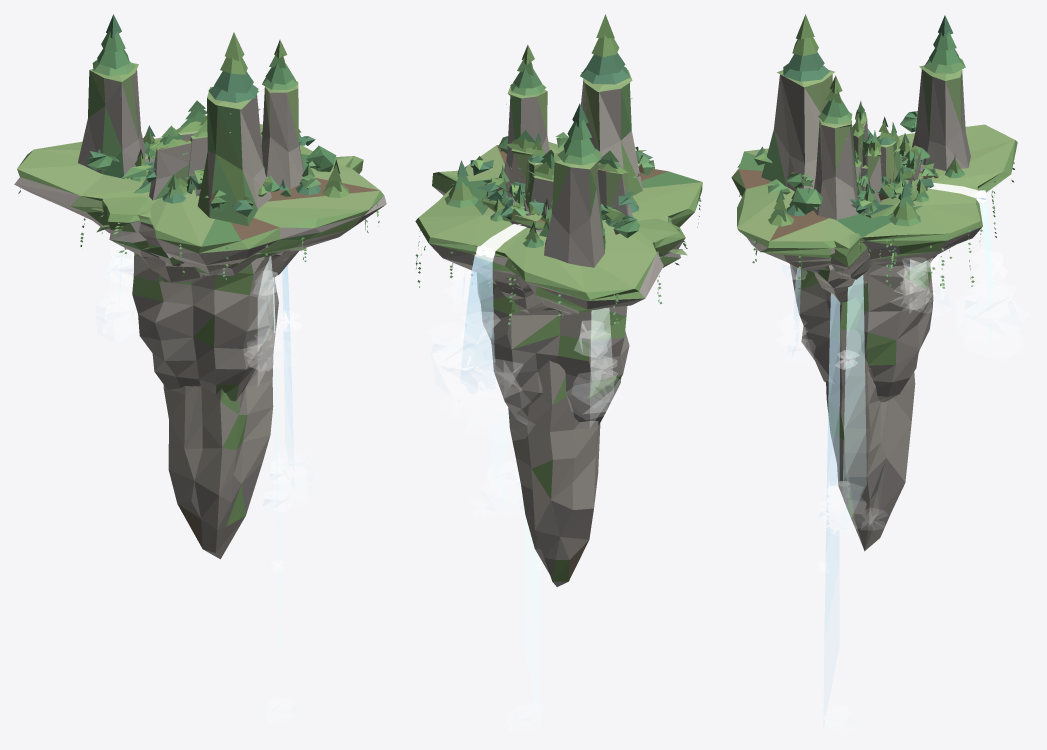
File: kit_meadow_lo.glb
3 views of the same model, side by side, from view 1: azimuth 30°, elevation 25°; view 2: azimuth 150°, elevation 25°; view 3: azimuth 270°, elevation 25° (orthographic). The views are drawn at different scales.
Visible parts, largest first — view 1: Island_Plateau_Wide, Island_Mesa_Tall, Island_Tower, Island_Twin_Falls, Island_Ridge_Long, Island_Lair_Arena, Island_Forest_Dense, Island_Keel; view 2: Island_Plateau_Wide, Island_Tower, Island_Mesa_Tall, Island_Ridge_Long, Island_Twin_Falls, Island_Forest_Dense, Island_Bowl, Island_Tilted_A; view 3: Island_Plateau_Wide, Island_Mesa_Tall, Island_Tower, Island_Twin_Falls, Island_Ridge_Long, Island_Bowl, Island_Forest_Dense, Island_Tilted_A.
Boxes of the visible parts, box(x1,y1,x2,y2) form: Island_Plateau_Wide: box(14, 14, 386, 296); Island_Mesa_Tall: box(132, 253, 311, 505); Island_Tower: box(163, 277, 294, 723); Island_Twin_Falls: box(95, 179, 298, 385); Island_Ridge_Long: box(96, 100, 363, 257); Island_Lair_Arena: box(124, 136, 290, 266); Island_Forest_Dense: box(130, 134, 272, 275); Island_Keel: box(188, 115, 207, 185); Island_Plateau_Wide: box(415, 14, 702, 435); Island_Tower: box(507, 360, 600, 730); Island_Mesa_Tall: box(470, 197, 629, 517); Island_Ridge_Long: box(432, 130, 687, 267); Island_Twin_Falls: box(494, 133, 623, 427); Island_Forest_Dense: box(471, 165, 641, 283); Island_Bowl: box(443, 199, 603, 312); Island_Tilted_A: box(481, 191, 545, 229); Island_Plateau_Wide: box(731, 14, 1030, 361); Island_Mesa_Tall: box(790, 183, 933, 535); Island_Tower: box(817, 293, 915, 728); Island_Twin_Falls: box(775, 116, 951, 360); Island_Ridge_Long: box(831, 101, 901, 279); Island_Bowl: box(856, 145, 938, 312); Island_Forest_Dense: box(801, 133, 952, 258); Island_Tilted_A: box(865, 154, 928, 218).
Size of the model in its own units: 36.94 by 91.05 by 35.95.
